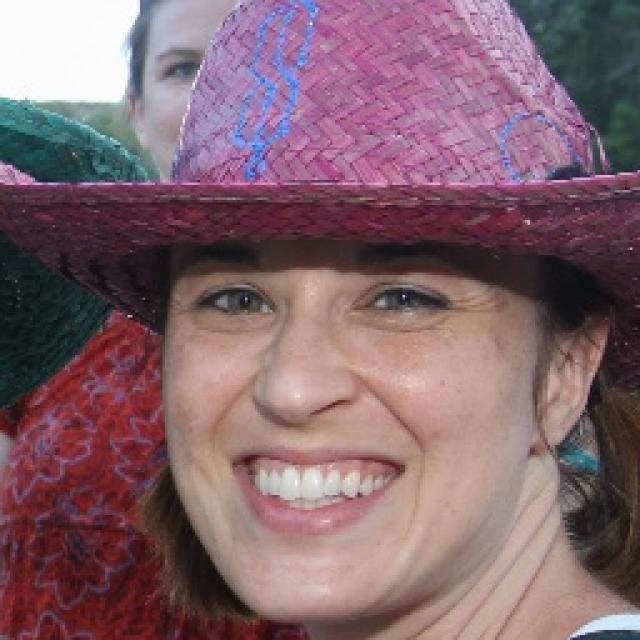earlobe: (530, 403, 570, 454), (134, 133, 149, 150)
eye: (193, 282, 284, 329), (351, 279, 458, 318), (160, 60, 201, 80)
nose: (250, 398, 366, 440)
wholeear: (530, 292, 612, 454), (122, 82, 148, 148)
